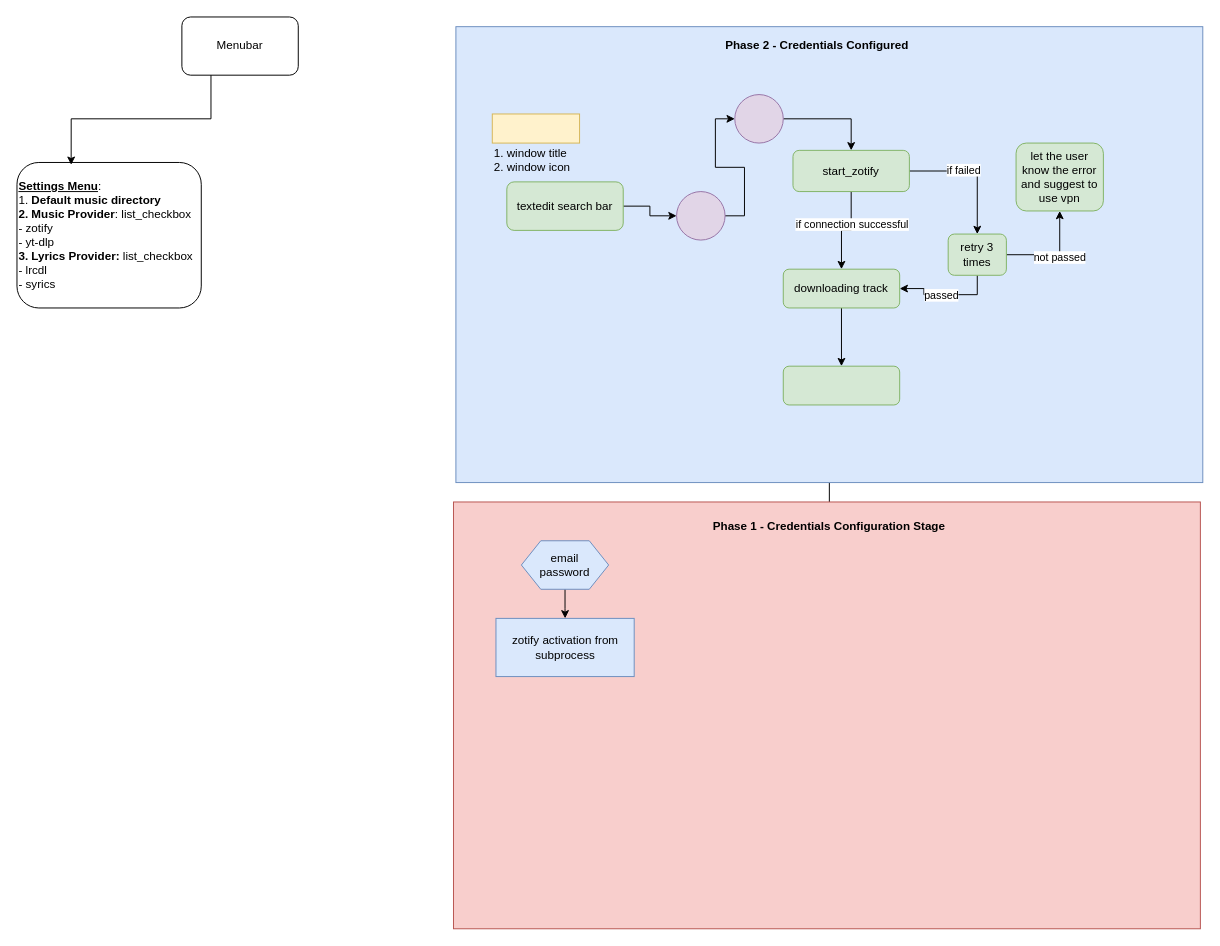
The diagram is 1220 pixels wide and 946 high, and some of its shapes have lost their labels. Each missing label, with the centre of its shape:
downloading lyrics: [841,385]
Main Widget: [535,128]
press enter: [758,118]
search button: [700,215]
